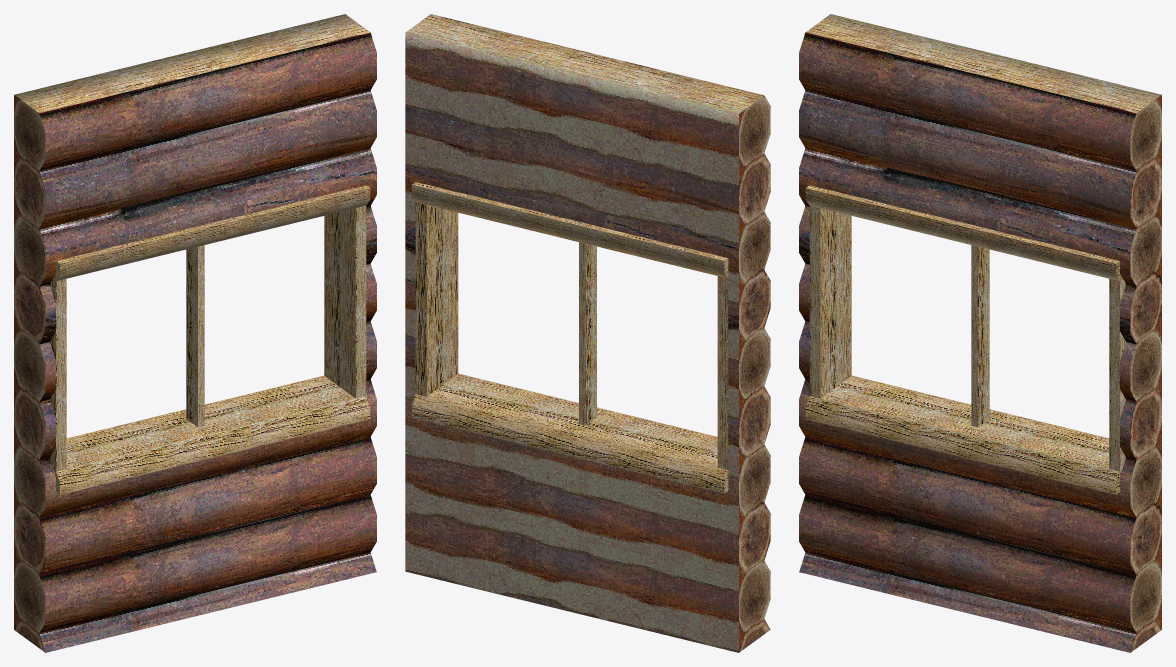
Rendered from wall-B-windowdouble.glb.
3 views of the same model, side by side, from view 1: azimuth 30°, elevation 25°; view 2: azimuth 150°, elevation 25°; view 3: azimuth 330°, elevation 25° (orthographic).
Parts seen in each view (by area): view 1: wall-B-windowdouble.001; view 2: wall-B-windowdouble.001; view 3: wall-B-windowdouble.001.
Boxes of the visible parts, box(x1,y1,x2,y2) form: wall-B-windowdouble.001: box(14, 14, 376, 652); wall-B-windowdouble.001: box(405, 14, 770, 652); wall-B-windowdouble.001: box(799, 14, 1161, 652).
Bounding box in the file's own units: 2 × 3.09 × 0.411.
2 materials, 2 textured.
